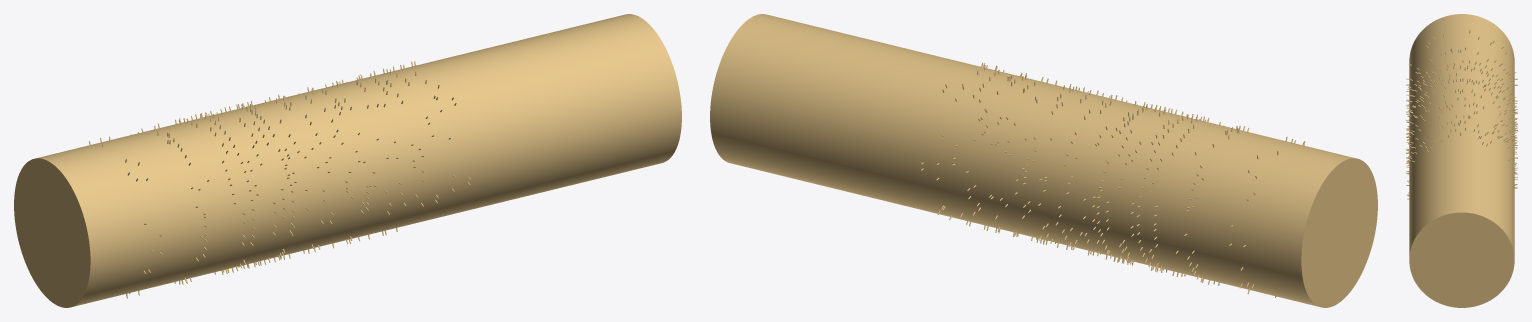
Rendered from Bizet-Verdi-opera-airs.glb.
3 views of the same model, side by side, from view 1: azimuth 30°, elevation 25°; view 2: azimuth 150°, elevation 25°; view 3: azimuth 270°, elevation 25° (orthographic). The views are drawn at different scales.
Parts seen in each view (by area): view 1: cylinder_body; view 2: cylinder_body; view 3: cylinder_body.
Boxes of the visible parts, left/top/right/bottom form: cylinder_body: left=14, top=14, right=681, bottom=307; cylinder_body: left=710, top=14, right=1377, bottom=307; cylinder_body: left=1409, top=14, right=1514, bottom=307.
Bounding box in the file's own units: 0.214 × 0.051 × 0.051.
